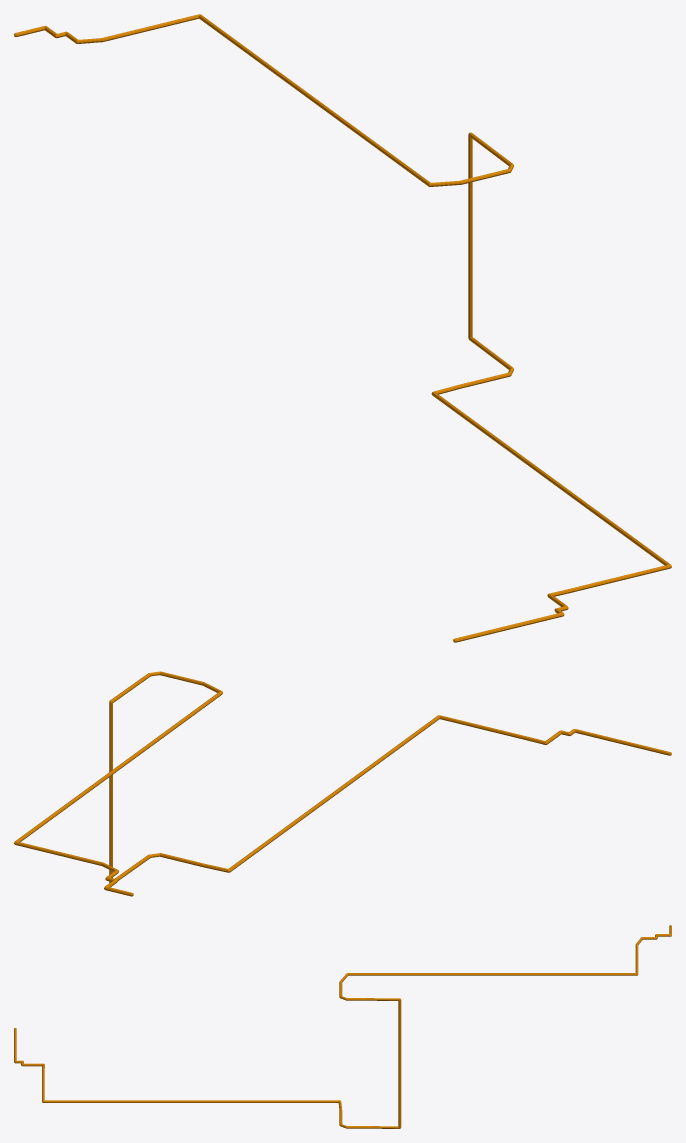
3 renders of one model, top to bottom at view 1: azimuth 30°, elevation 25°; view 2: azimuth 150°, elevation 25°; view 3: azimuth 270°, elevation 25°, orthographic. The views are drawn at different scales.
Bounding box in the file's own units: 1670 × 1020 × 4660.
